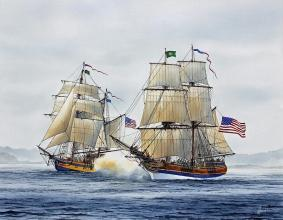fanchuan: (111, 42, 246, 179), (34, 59, 127, 173)
